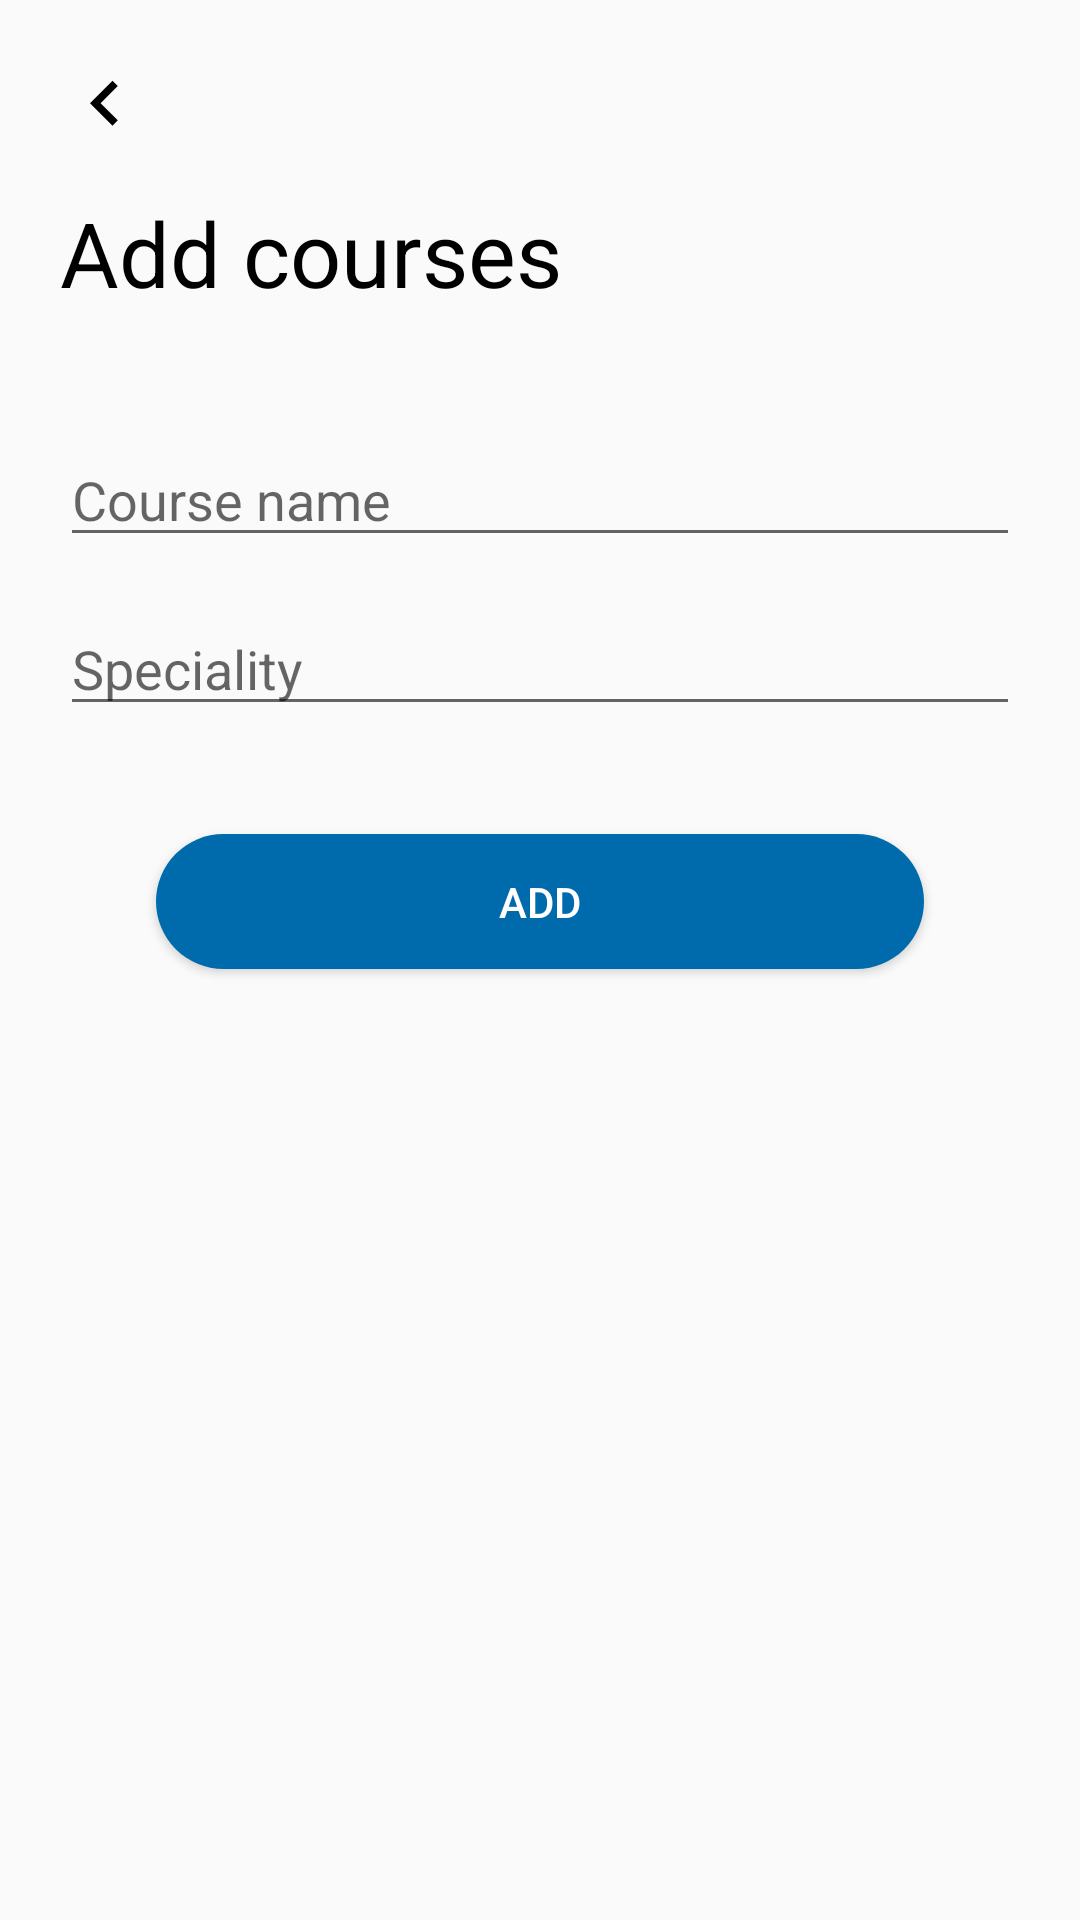

Named icons in this screenshot (1080x1920) and their bounding boxes, rect(x1, y1, x2, y2):
back: rect(90, 81, 118, 126)
